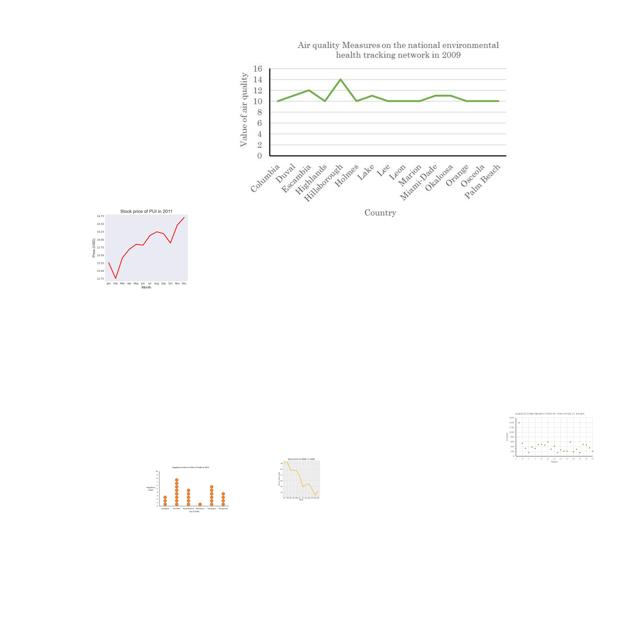Graph: (233, 35, 512, 220), (87, 204, 203, 291), (504, 412, 595, 464), (144, 465, 230, 515), (269, 455, 332, 502)
